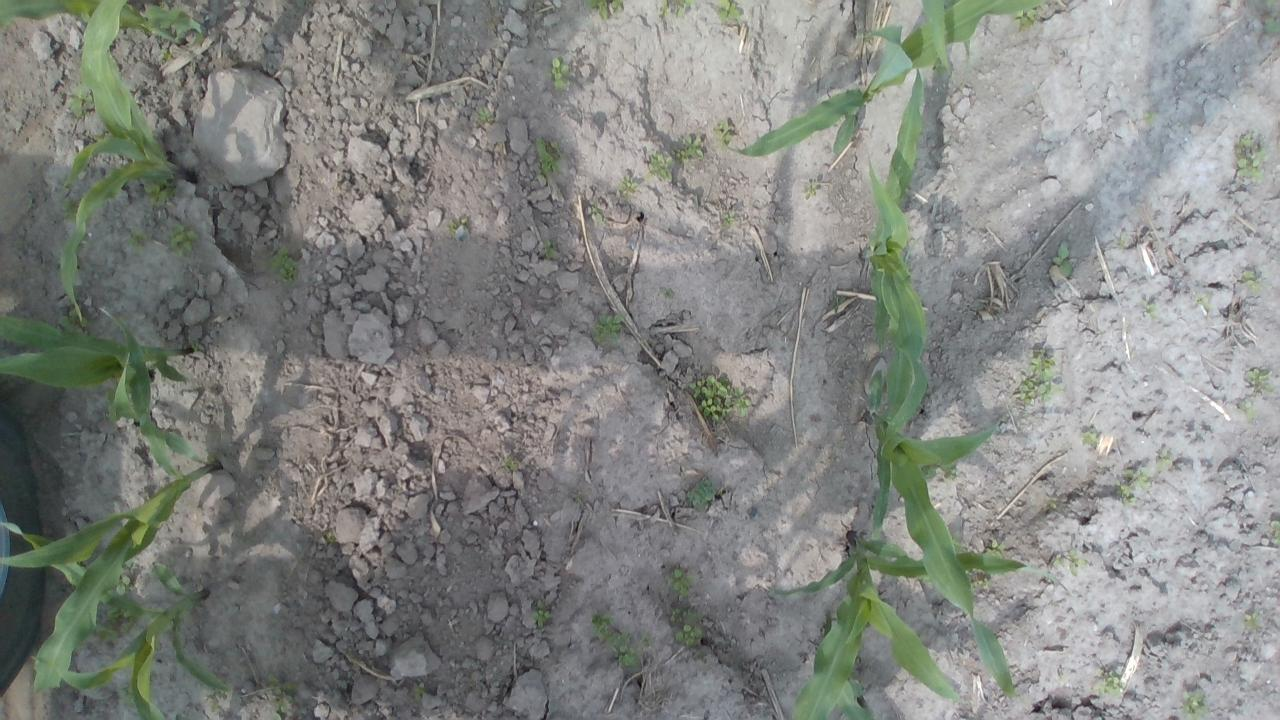Maize: (0, 306, 222, 692), (764, 530, 1072, 720), (860, 338, 1018, 700), (731, 0, 1052, 159), (0, 520, 232, 720), (57, 0, 200, 324), (856, 65, 928, 431), (0, 312, 196, 426), (0, 0, 206, 48), (837, 674, 876, 720)
Weeds: (592, 612, 654, 668), (688, 374, 752, 422), (1012, 350, 1064, 406), (1236, 131, 1268, 180), (264, 674, 296, 720), (670, 608, 704, 646), (96, 610, 136, 642), (534, 137, 565, 175), (68, 82, 96, 119), (168, 225, 200, 256), (686, 478, 716, 510), (592, 314, 624, 344), (1052, 550, 1088, 576), (1093, 669, 1125, 698), (271, 248, 298, 282), (1246, 367, 1276, 397), (56, 306, 88, 334), (674, 135, 706, 162), (1180, 690, 1208, 720), (646, 153, 676, 181), (588, 0, 625, 22), (1052, 240, 1073, 278), (144, 180, 177, 204), (549, 56, 572, 90), (666, 568, 693, 596), (658, 0, 694, 19), (1262, 0, 1280, 36), (532, 600, 552, 629), (1124, 466, 1150, 488), (716, 120, 735, 148), (1012, 8, 1036, 30), (718, 0, 742, 22), (126, 228, 150, 250), (618, 173, 640, 195), (1242, 270, 1262, 294), (60, 198, 80, 222), (968, 570, 989, 590), (1116, 485, 1138, 504), (1081, 427, 1100, 449), (446, 216, 469, 234), (984, 540, 1004, 560), (801, 180, 820, 200), (476, 106, 496, 125), (1196, 294, 1216, 312), (115, 575, 133, 595), (542, 241, 560, 260), (1158, 450, 1173, 471), (1238, 399, 1256, 416), (502, 456, 519, 473), (1142, 300, 1158, 318), (1244, 612, 1260, 630), (412, 683, 428, 701), (1270, 518, 1280, 546), (588, 205, 604, 221), (159, 48, 174, 64), (722, 210, 737, 226), (1044, 494, 1058, 509), (1144, 113, 1158, 127), (660, 286, 674, 300)
